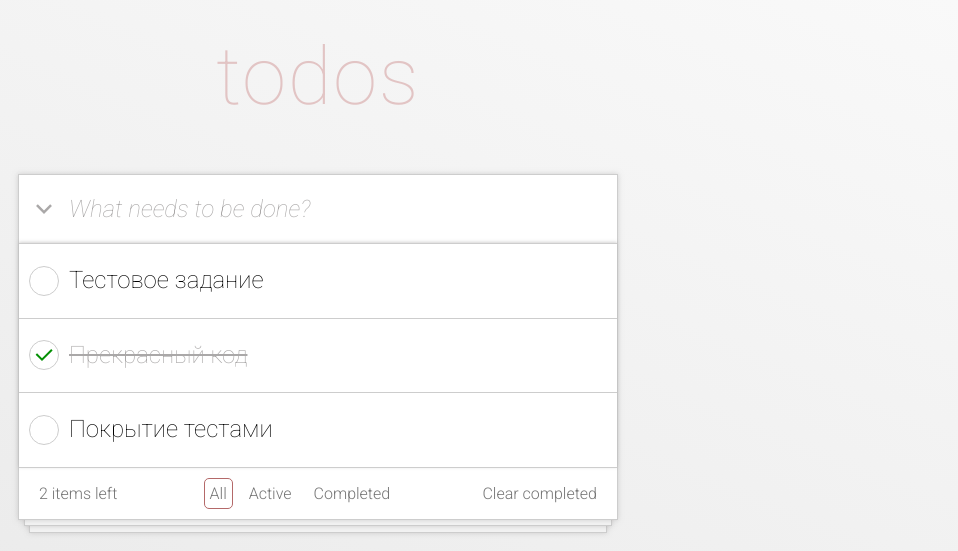
Test: change isActive for todo
Expected: the number of list items with class "todo" is 3, [19,243,617,318]; [19,318,617,392]; [19,392,617,467]
Expected: the text "2 items left" is shown, [39,484,117,503]
What coordinates should you click on to do the following:
click the element with class "todo__radio" next to "Тестовое задание"
I would click on:
 (44, 281)
Its box is [29,266,59,296].
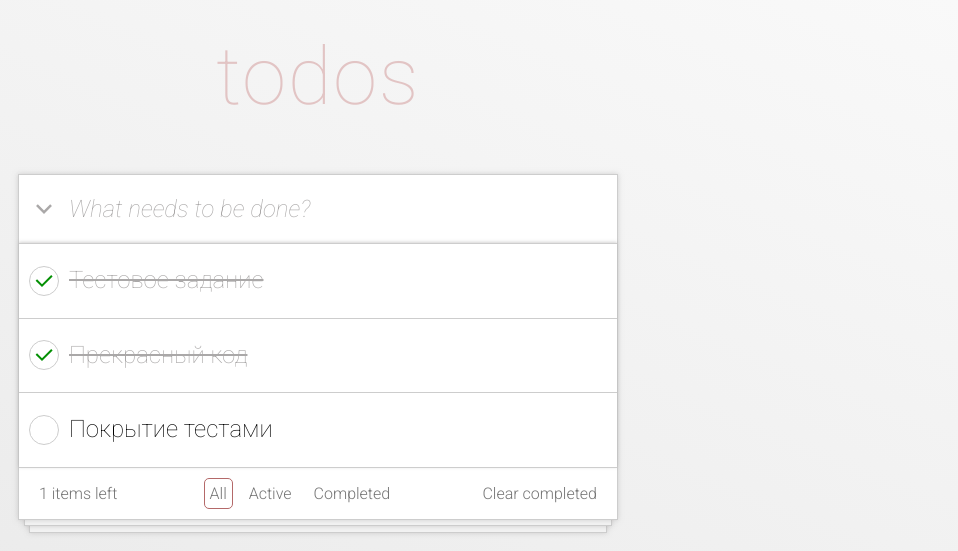
Expected: the text "1 items left" is shown, [39,484,117,503]
What coordinates should you click on to do the following:
click the element with class "todo__radio" next to "Прекрасный код"
I would click on:
 (44, 355)
Its box is [29,340,59,370].
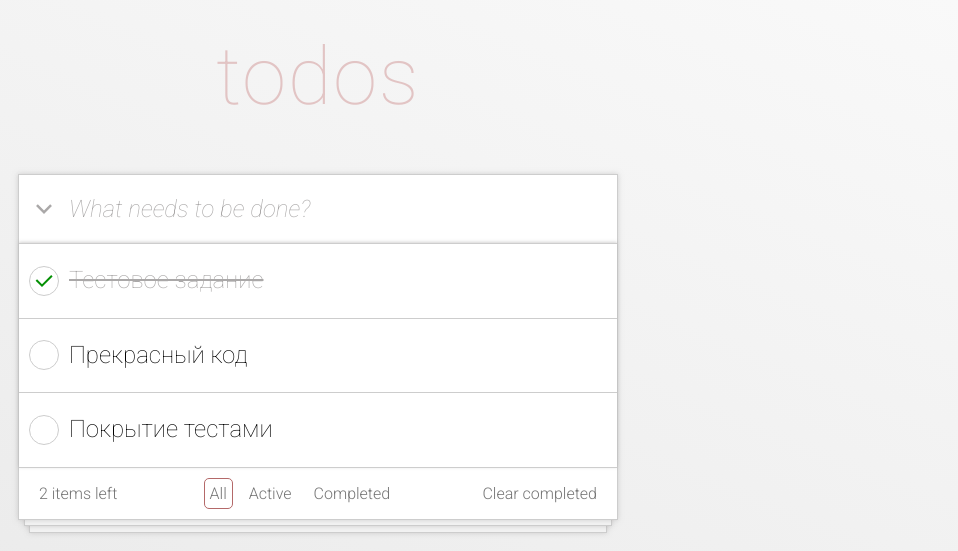
Expected: the text "2 items left" is shown, [39,484,117,503]
